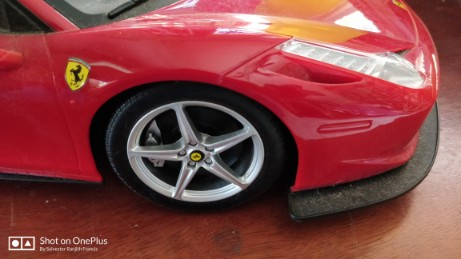unaligned_wheel: (96, 83, 294, 212)
